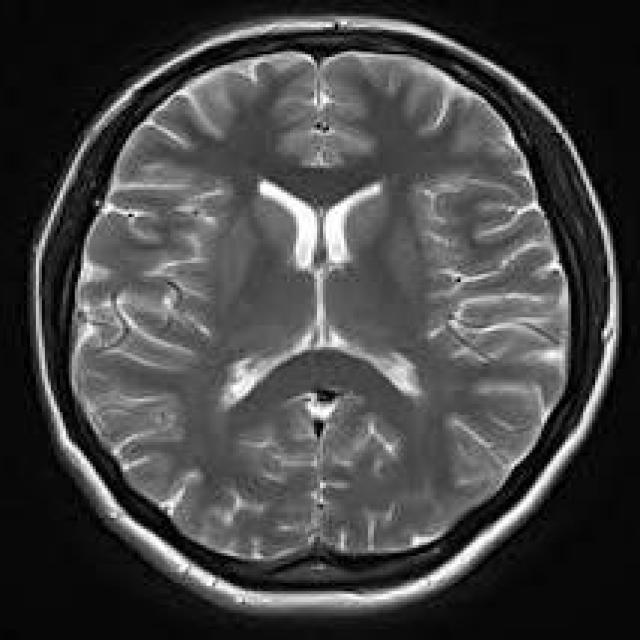No_Tumor: (30, 16, 619, 613)
